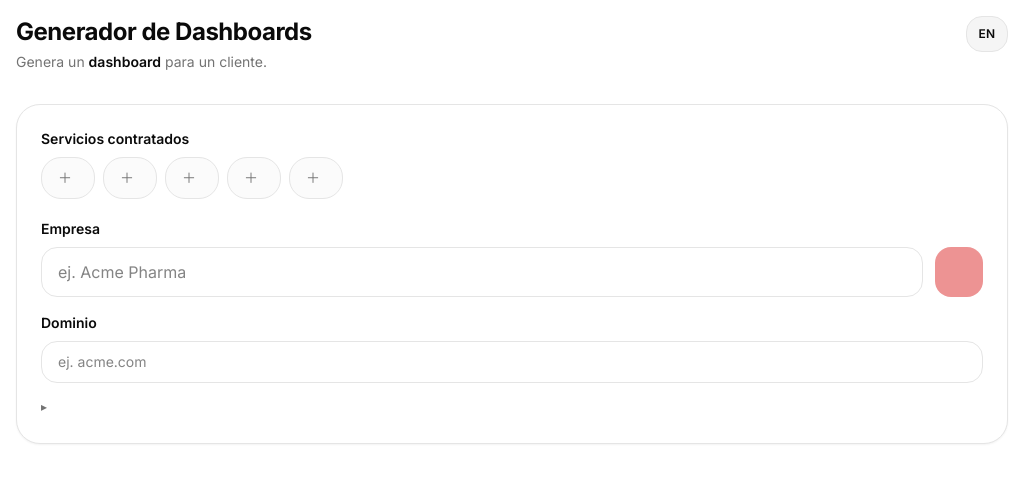
Test case: Dashboard Builder page — company picker › shows a newly-invited pharma tenant in the dropdown with a "Nuevo" badge
Focus the field with placeholder "ej. Acme Pharma": coordinates (482, 272) [41, 247, 923, 297]
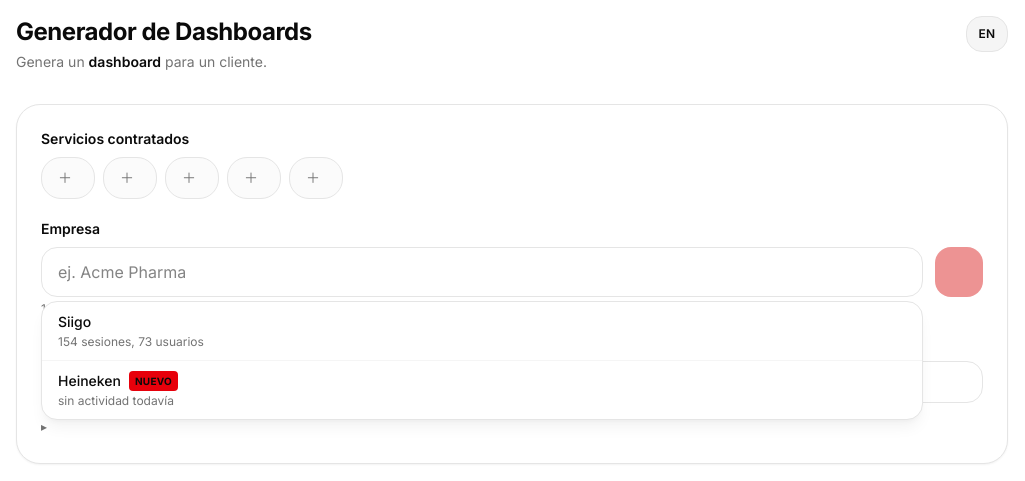
Now the text "Heineken" is shown, box [58, 371, 121, 391]
Now the text "Nuevo" is shown, box [129, 371, 178, 391]
